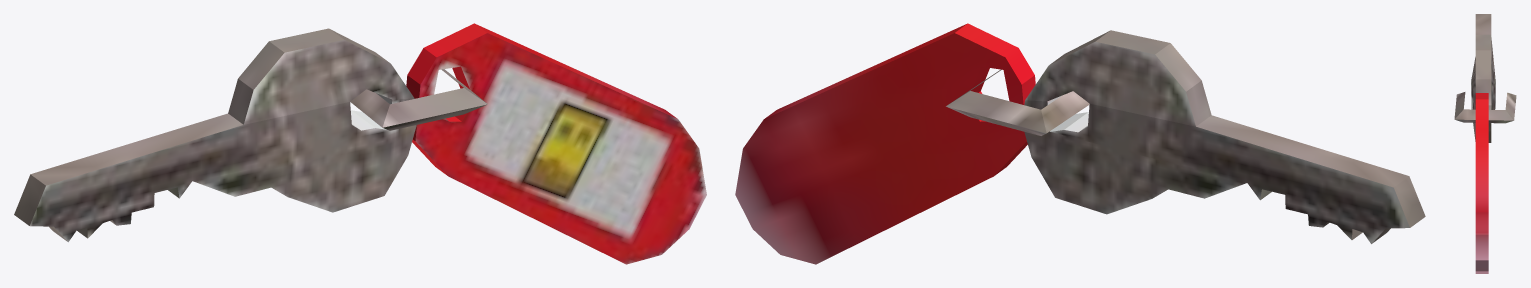
File: key_door.glb
3 views of the same model, side by side, from view 1: azimuth 30°, elevation 25°; view 2: azimuth 150°, elevation 25°; view 3: azimuth 270°, elevation 25° (orthographic). The views are drawn at different scales.
Visible parts, largest first — view 1: Plane_001; view 2: Plane_001; view 3: Plane_001.
Boxes of the visible parts, left/top/right/bottom form: Plane_001: left=14, top=23, right=706, bottom=264; Plane_001: left=735, top=23, right=1425, bottom=264; Plane_001: left=1454, top=14, right=1516, bottom=273.
Size of the model in its own units: 8.07 by 3.36 by 1.28.
Materials: 1 (1 with a texture image).
